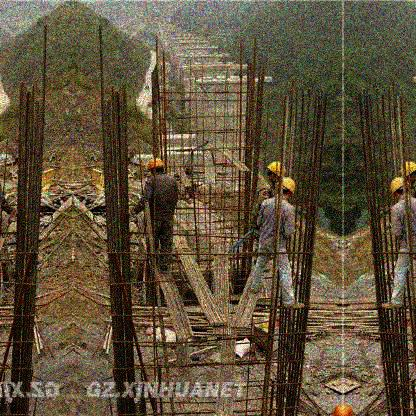helmet: (389, 177, 407, 201), (280, 177, 294, 204), (268, 161, 282, 186), (146, 159, 164, 177), (402, 163, 416, 186)
